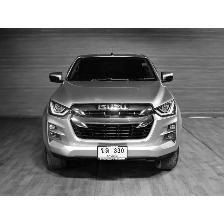NON-EV: (43, 48, 184, 172)
